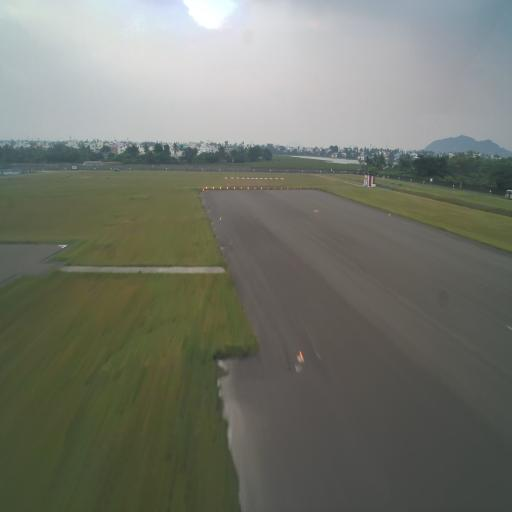on: (296, 348, 306, 364), (388, 211, 392, 218), (218, 215, 222, 221), (205, 185, 208, 190), (220, 185, 222, 191), (226, 186, 229, 190), (233, 186, 236, 190), (240, 186, 243, 190), (247, 186, 250, 190), (260, 186, 263, 190), (202, 187, 204, 191), (212, 186, 214, 190), (254, 186, 256, 190), (274, 186, 276, 190), (286, 186, 288, 190), (267, 187, 269, 190), (280, 187, 282, 190), (293, 187, 295, 190), (300, 187, 301, 191)
